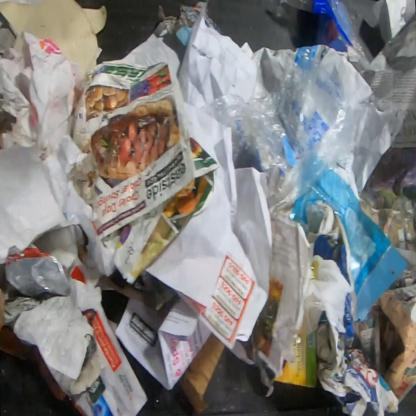cardboard: (315, 290, 399, 415), (0, 324, 69, 402), (379, 281, 416, 406), (178, 332, 227, 414), (307, 202, 350, 285)
metal: (4, 242, 71, 298)
soft_plastic: (198, 52, 355, 220), (278, 0, 375, 73)
